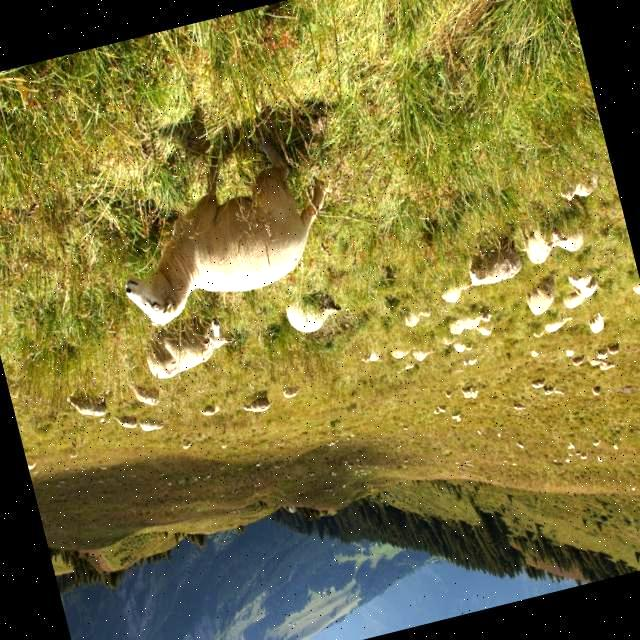sheep: (122, 154, 322, 325), (145, 316, 231, 379), (65, 396, 104, 416)
